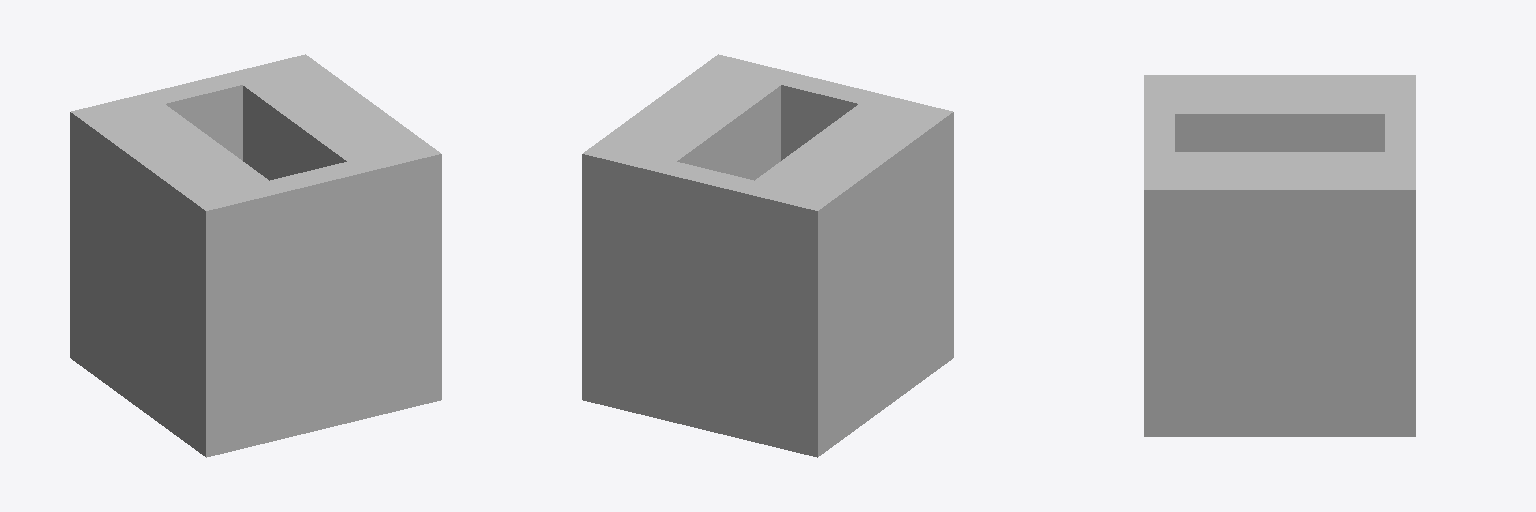
The model's file is Line_cube_bottle_preprocessed.obj.
3 renders of one model, left to right at view 1: azimuth 30°, elevation 25°; view 2: azimuth 150°, elevation 25°; view 3: azimuth 270°, elevation 25°, orthographic.
Bounding box in the file's own units: 0.08 × 0.08 × 0.08.